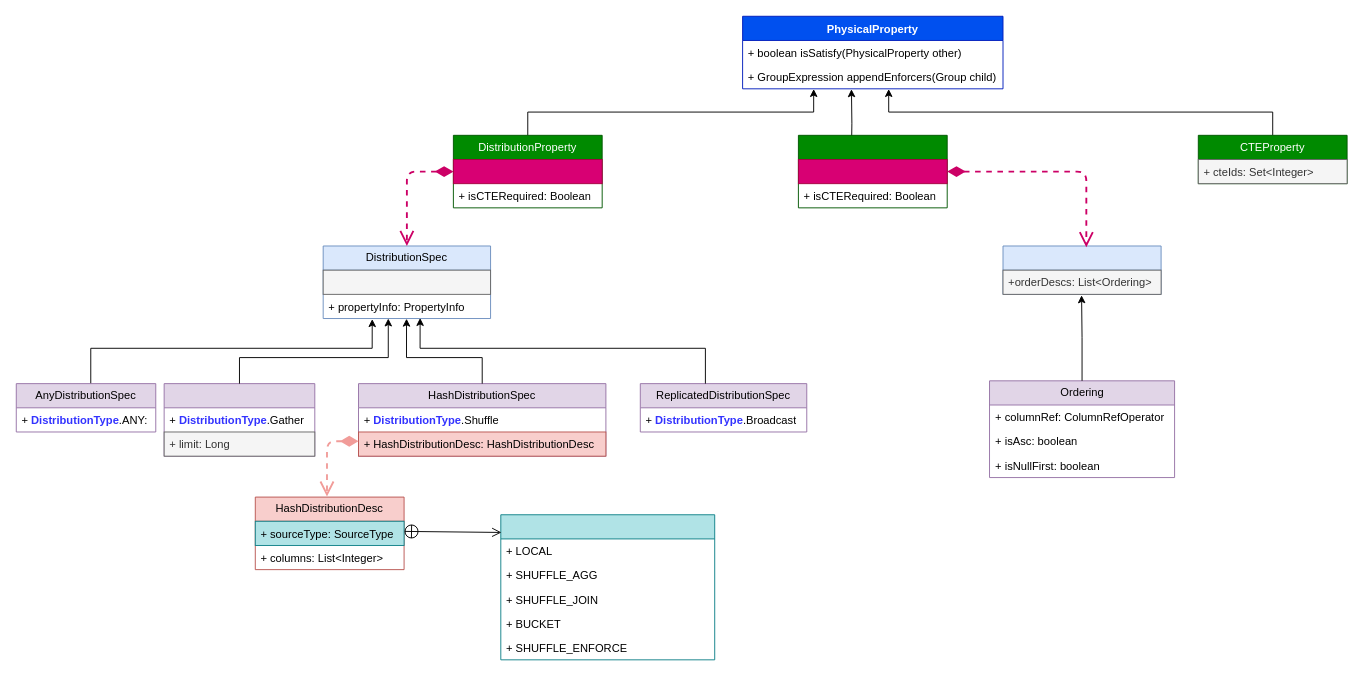
Image size: 1363x679. Some labels were removed from this diagram. Each missing label, with the box of its shape:
+ spec : DistributionSpec: (452, 159, 602, 184)
+ spec : OrderSpec: (797, 159, 947, 184)
+ type: DistributionType: (322, 269, 491, 294)
GatherDistributionSpec: (163, 383, 315, 456)
HashDistributionDesc.SourceType: (500, 514, 715, 660)
OrderSpec: (1002, 245, 1161, 294)
SortProperty: (797, 134, 947, 208)
